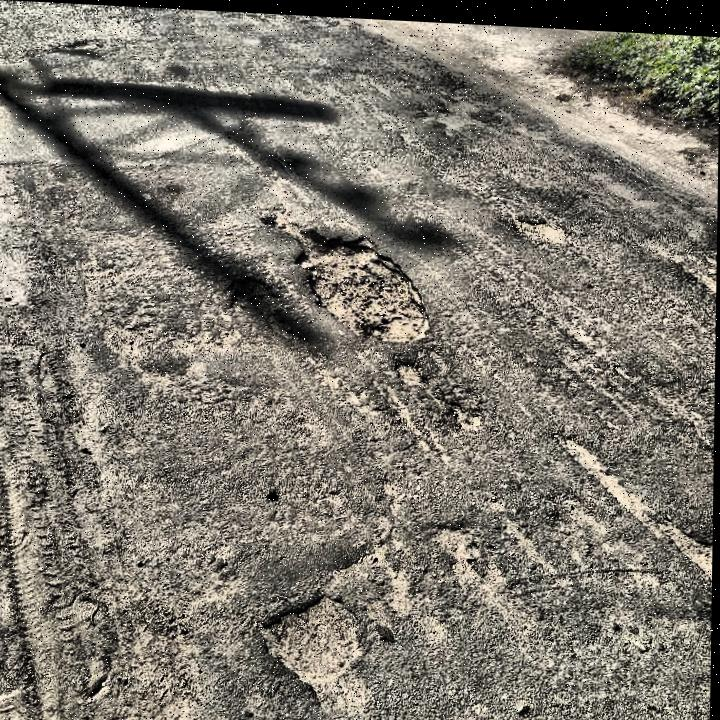pothole: (265, 208, 439, 343), (257, 583, 376, 710), (227, 269, 301, 339), (665, 507, 713, 572), (509, 207, 569, 241)
